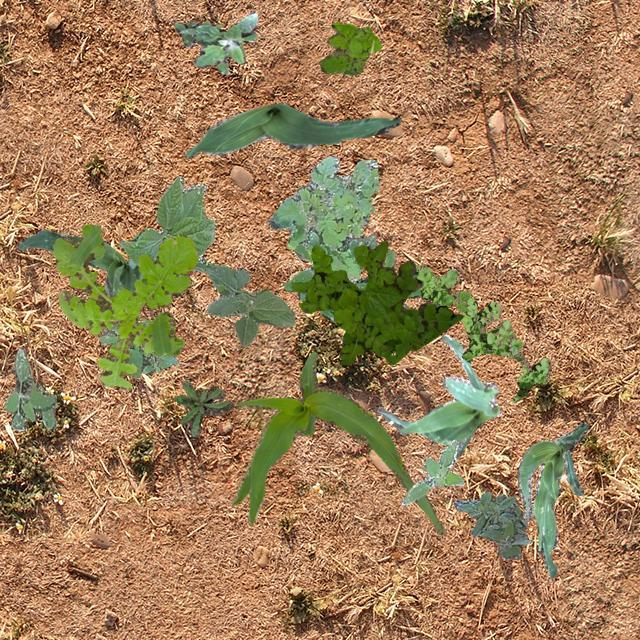crop: (230, 351, 444, 534), (376, 333, 501, 458), (104, 174, 214, 294), (186, 102, 400, 156), (518, 422, 588, 576), (18, 228, 136, 294), (204, 264, 294, 344)
weed: (51, 224, 198, 388), (290, 240, 462, 366), (412, 264, 550, 402), (267, 156, 378, 280), (282, 234, 420, 322), (452, 491, 530, 558), (174, 12, 256, 72), (98, 320, 178, 378), (5, 346, 56, 429), (400, 438, 462, 504), (172, 380, 232, 436), (320, 21, 380, 74)
